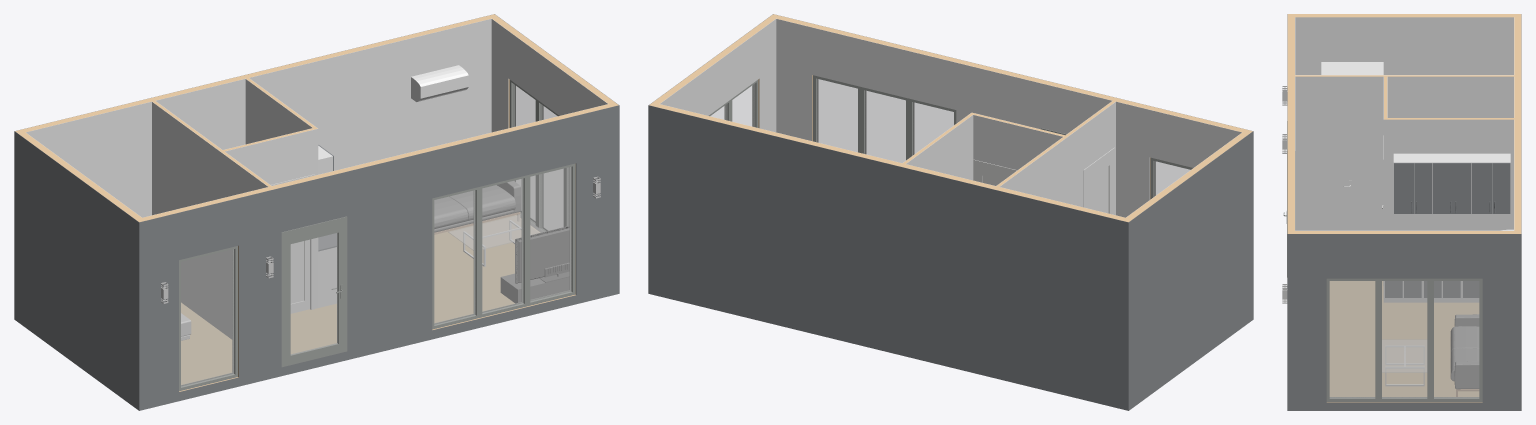
Rendered from Autoramanas_(3,6x8,0m)_R01.fbx.
3 views of the same model, side by side, from view 1: azimuth 30°, elevation 25°; view 2: azimuth 150°, elevation 25°; view 3: azimuth 270°, elevation 25° (orthographic). The views are drawn at different scales.
Visible parts, largest first — view 1: IfcWall/Part:2370825, IfcWall/Part:2370830, IfcWall/Part:2370828, IfcWindow/Aluprof_MB-86-SI_E_Alu_Window-1sash-FIX_ENG_R-000. (×4), IfcSlab/Part:2370833, IfcWall/Part:2370818, IfcDoor/Simple_vitree_-_03:1000x2100:2370780, IfcWindow/Aluprof_MB-86-SI_E_Alu_Window-1sash-FIX_ENG_R-0004, IfcWindow/Aluprof_MB-86-SI_E_Alu_Window-1sash-FIX_ENG_R-000, IfcWall/Part:2370857, IfcWall/Part:2370821, IfcFurnishingElement/Bolia - North Seater Sofa:2 1/2 Seater: (+11 smaller); view 2: IfcWall/Part:2370831, IfcWall/Part:2370824, IfcWall/Part:2370828, IfcWindow/Aluprof_MB-86-SI_E_Alu_Window-1sash-FIX_ENG_R-000. (×3), IfcWall/Part:2370857, IfcWall/Part:2370818, IfcWindow/Aluprof_MB-86-SI_E_Alu_Window-1sash-FIX_ENG_R-000, IfcWall/Part:2370822, IfcWall/Part:2370840, IfcWall/Part:2370826, IfcWall/Part:2370832, IfcDoor/Simple_vitree_-_03:800x2100mm:2370847 (+4 smaller); view 3: IfcWall/Part:2370858, IfcWindow/Aluprof_MB-86-SI_E_Alu_Window-1sash-FIX_ENG_R-000. (×3), IfcWall/Part:2370827, IfcSlab/Part:2370833, IfcWall/Part:2370841, IfcWall/Part:2370819, IfcDoor/Simple_vitree_-_03:800x2100mm:2370847, IfcWall/Part:2370843, IfcFurnishingElement/Kitchen_Cabinets_Marbodal_Wall-cabinet-, IfcFurnishingElement/Kitchen_Cabinets_Marbodal_Wall-cabinet, IfcFurnishingElement/Kitchen_Cabinets_Marbodal_Wall-cabinet., IfcFurnishingElement/Bolia - North Seater Sofa:2 1/2 Seater: (+14 smaller).
Boxes of the visible parts, bbox=[...] form: IfcWall/Part:2370825: bbox=[139, 105, 619, 410]; IfcWall/Part:2370830: bbox=[26, 18, 491, 217]; IfcWall/Part:2370828: bbox=[14, 131, 139, 410]; IfcWindow/Aluprof_MB-86-SI_E_Alu_Window-1sash-FIX_ENG_R-000. (×4): bbox=[432, 80, 575, 329]; IfcSlab/Part:2370833: bbox=[181, 215, 537, 384]; IfcWall/Part:2370818: bbox=[152, 102, 268, 339]; IfcDoor/Simple_vitree_-_03:1000x2100:2370780: bbox=[281, 216, 347, 367]; IfcWindow/Aluprof_MB-86-SI_E_Alu_Window-1sash-FIX_ENG_R-0004: bbox=[179, 246, 237, 391]; IfcWindow/Aluprof_MB-86-SI_E_Alu_Window-1sash-FIX_ENG_R-000: bbox=[479, 175, 528, 317]; IfcWall/Part:2370857: bbox=[491, 19, 607, 132]; IfcWall/Part:2370821: bbox=[225, 128, 318, 308]; IfcFurnishingElement/Bolia - North Seater Sofa:2 1/2 Seater:: bbox=[434, 181, 520, 234]; IfcWall/Part:2370831: bbox=[648, 105, 1128, 410]; IfcWall/Part:2370824: bbox=[776, 18, 1241, 217]; IfcWall/Part:2370828: bbox=[1129, 131, 1253, 410]; IfcWindow/Aluprof_MB-86-SI_E_Alu_Window-1sash-FIX_ENG_R-000. (×3): bbox=[730, 75, 956, 157]; IfcWall/Part:2370857: bbox=[660, 19, 776, 132]; IfcWall/Part:2370818: bbox=[999, 102, 1115, 215]; IfcWindow/Aluprof_MB-86-SI_E_Alu_Window-1sash-FIX_ENG_R-000: bbox=[860, 86, 909, 162]; IfcWall/Part:2370822: bbox=[973, 115, 1062, 170]; IfcWall/Part:2370840: bbox=[906, 115, 973, 180]; IfcWall/Part:2370826: bbox=[770, 14, 1245, 199]; IfcWall/Part:2370832: bbox=[649, 102, 1131, 222]; IfcDoor/Simple_vitree_-_03:800x2100mm:2370847: bbox=[1083, 147, 1114, 214]; IfcWall/Part:2370858: bbox=[1287, 234, 1521, 410]; IfcWindow/Aluprof_MB-86-SI_E_Alu_Window-1sash-FIX_ENG_R-000. (×3): bbox=[1326, 278, 1482, 401]; IfcWall/Part:2370827: bbox=[1295, 17, 1513, 74]; IfcSlab/Part:2370833: bbox=[1329, 281, 1479, 396]; IfcWall/Part:2370841: bbox=[1383, 119, 1513, 230]; IfcWall/Part:2370819: bbox=[1295, 76, 1383, 230]; IfcDoor/Simple_vitree_-_03:800x2100mm:2370847: bbox=[1299, 118, 1356, 230]; IfcWall/Part:2370843: bbox=[1387, 76, 1513, 117]; IfcFurnishingElement/Kitchen_Cabinets_Marbodal_Wall-cabinet-: bbox=[1471, 153, 1510, 213]; IfcFurnishingElement/Kitchen_Cabinets_Marbodal_Wall-cabinet: bbox=[1432, 153, 1471, 213]; IfcFurnishingElement/Kitchen_Cabinets_Marbodal_Wall-cabinet.: bbox=[1393, 153, 1432, 213]; IfcFurnishingElement/Bolia - North Seater Sofa:2 1/2 Seater:: bbox=[1450, 314, 1479, 396].
Size of the model in its own units: 800 by 300 by 368.
